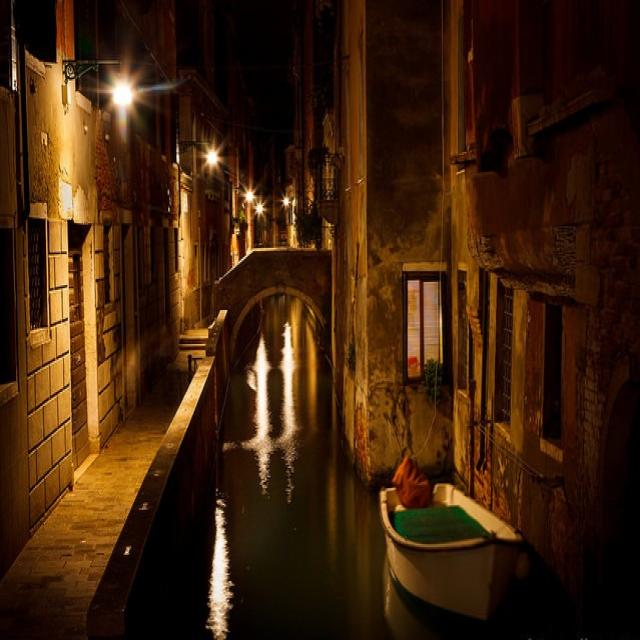Boat: (375, 464, 535, 631)
